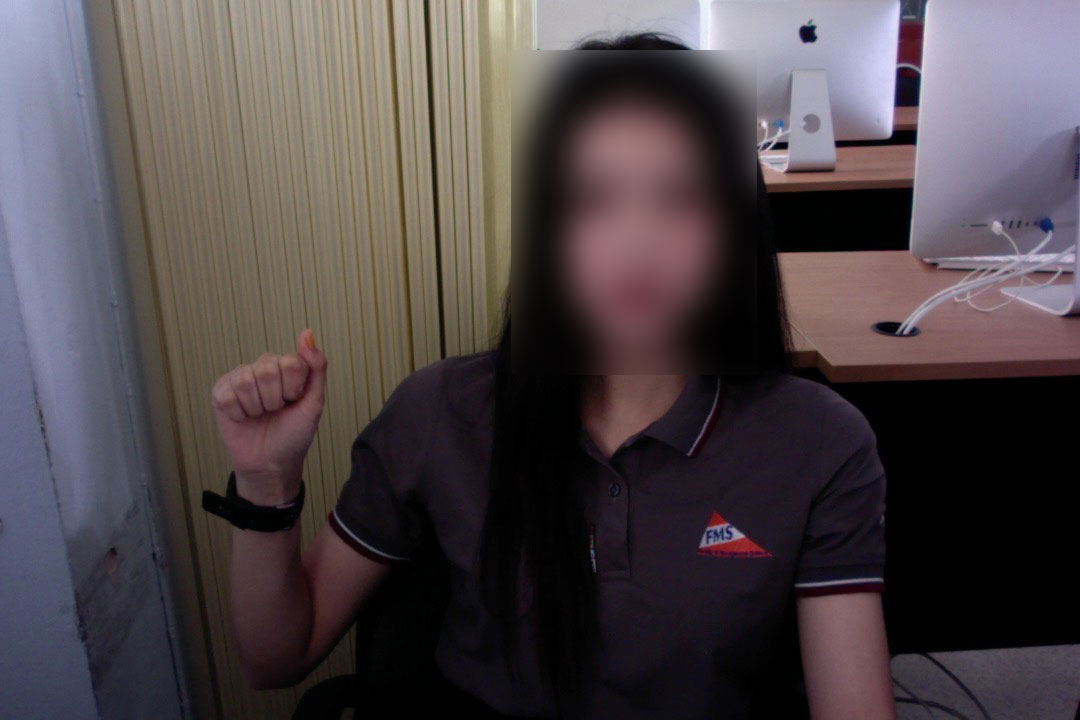or: (199, 321, 335, 496)
